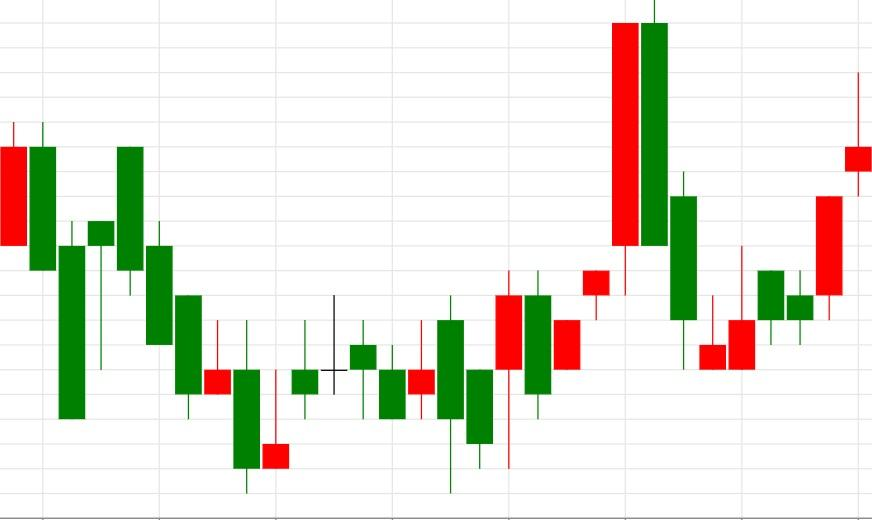inverse_hammer_rise: (116, 146, 290, 494), (611, 0, 727, 371)
